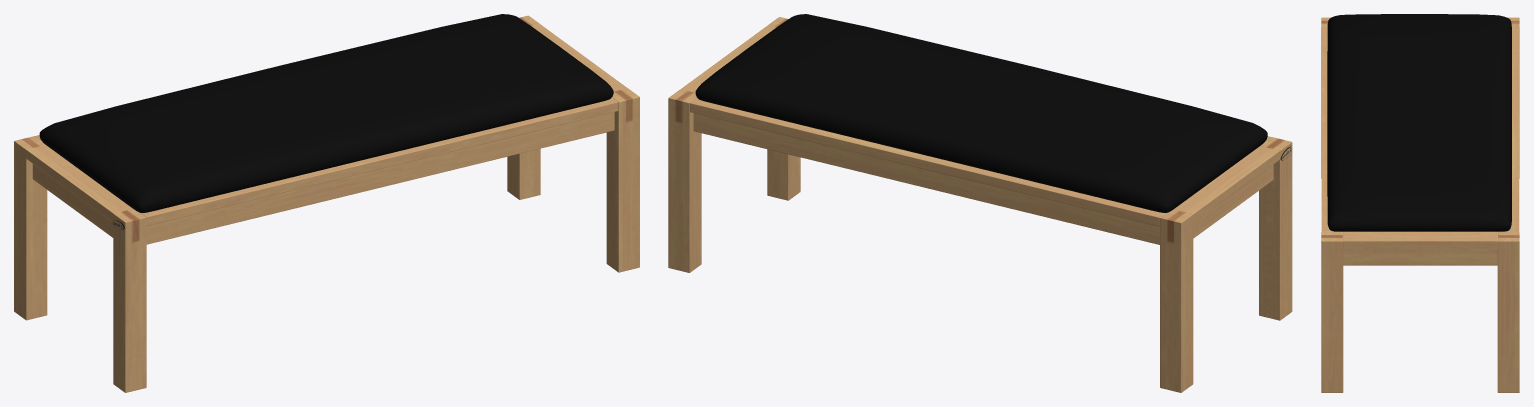
The picture shows the model from 3 angles, left to right: view 1: azimuth 30°, elevation 25°; view 2: azimuth 150°, elevation 25°; view 3: azimuth 270°, elevation 25°; orthographic projection. The views are drawn at different scales.
Visible parts, largest first — view 1: B07K8193NL; view 2: B07K8193NL; view 3: B07K8193NL.
Part boxes in pixels (left/top/right/bottom): B07K8193NL: left=14, top=14, right=639, bottom=392; B07K8193NL: left=668, top=14, right=1292, bottom=392; B07K8193NL: left=1321, top=14, right=1519, bottom=392.
Size of the model in its own units: 1.2 by 0.4298 by 0.4498.
Materials: 1 (1 with a texture image).
